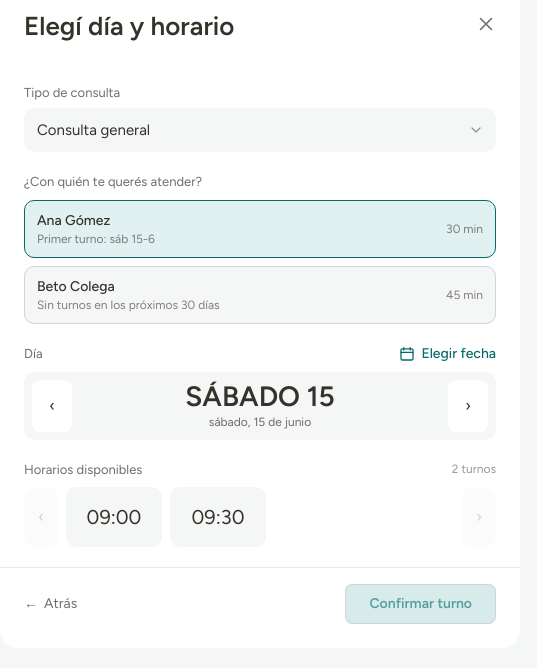
PantallaDiaHora — panel de calendario mensual (3.8) › 'Elegir fecha' despliega el panel dentro del flujo, sin popover
Click the button "Elegir fecha" at point(448, 354), box [399,344,496,364]
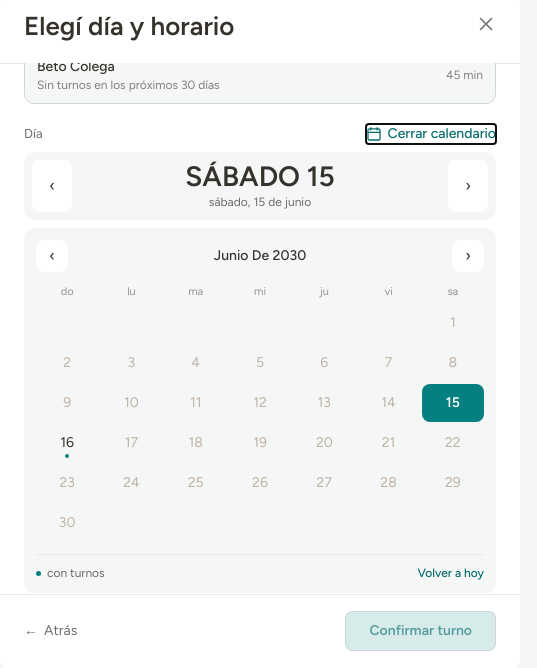
Expected: the button "Cerrar calendario" is shown, [366,124,496,144]
Expected: the button named "Mes siguiente" is shown, [452,240,484,272]
